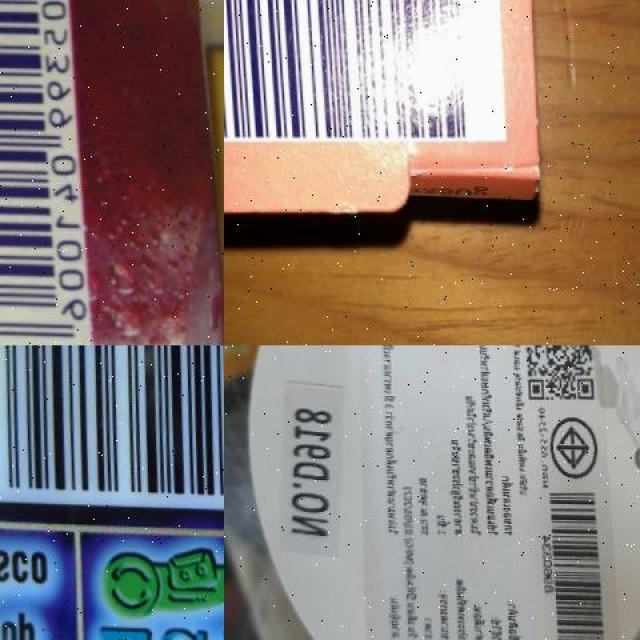Barcode: (224, 0, 504, 149), (0, 345, 224, 511), (0, 0, 90, 345), (533, 477, 607, 640)
